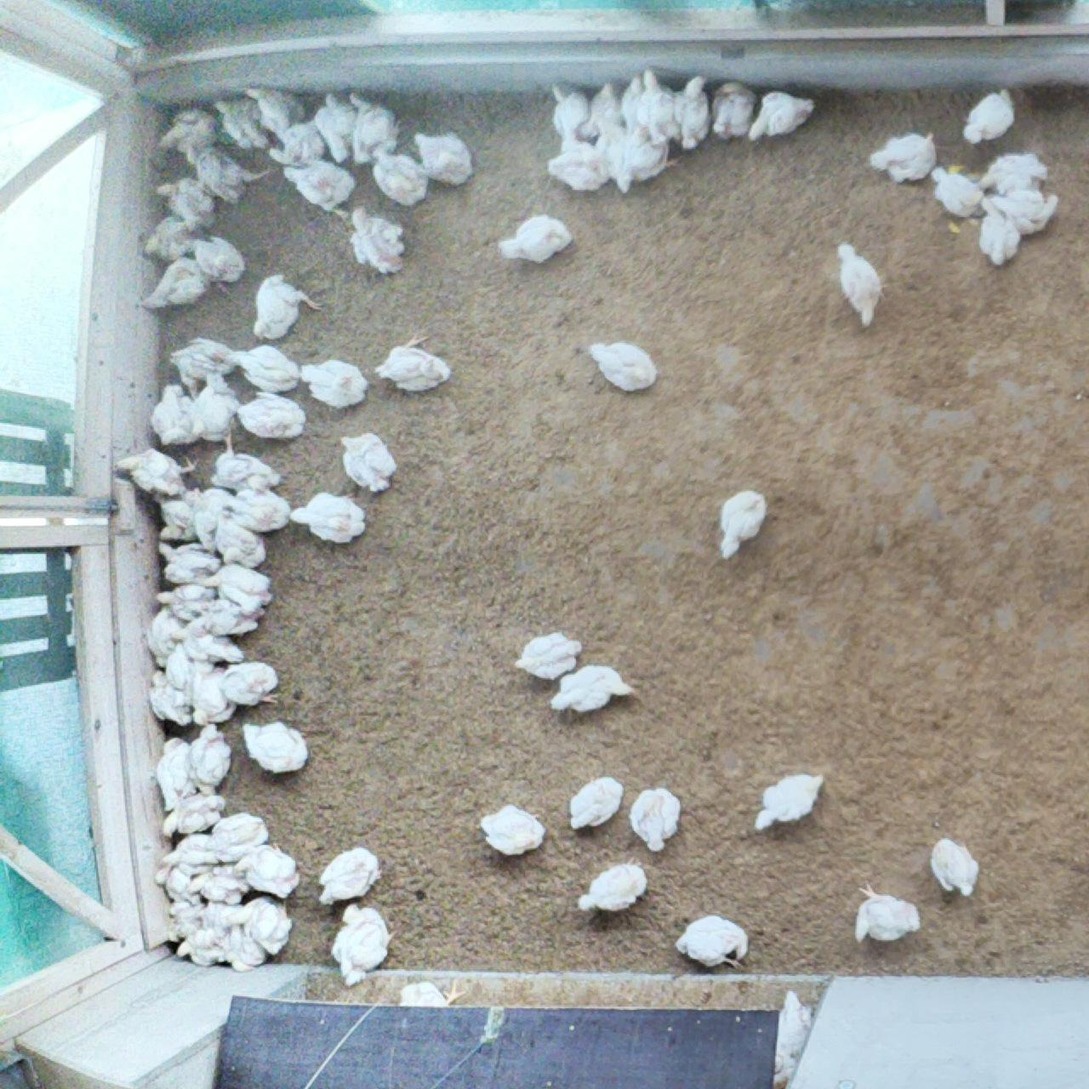chicken: (582, 331, 662, 405), (371, 330, 452, 401), (328, 902, 394, 989), (247, 272, 322, 348), (707, 485, 778, 564), (830, 238, 887, 336), (345, 202, 412, 283), (668, 909, 758, 969), (845, 881, 924, 949), (239, 83, 323, 145), (741, 81, 818, 148), (751, 769, 830, 834), (290, 488, 367, 554), (344, 88, 400, 177), (233, 717, 316, 777), (365, 141, 434, 213), (494, 213, 573, 275), (472, 801, 552, 859), (604, 130, 670, 200), (187, 153, 271, 208), (573, 862, 652, 920), (314, 839, 379, 909), (151, 105, 225, 166), (986, 187, 1068, 242), (864, 126, 941, 184), (977, 149, 1054, 207), (551, 663, 632, 718), (171, 617, 265, 664), (152, 537, 242, 586), (310, 92, 364, 173), (209, 94, 273, 162), (334, 429, 396, 499), (116, 441, 188, 501), (411, 127, 477, 192), (279, 157, 354, 214), (628, 67, 676, 151), (196, 566, 275, 617), (151, 177, 224, 232), (537, 141, 611, 194), (957, 83, 1017, 148), (628, 785, 681, 858), (928, 832, 984, 901), (507, 630, 584, 680), (562, 774, 621, 835), (928, 162, 985, 225), (973, 203, 1024, 273), (670, 73, 711, 156), (144, 259, 209, 311), (229, 903, 293, 955), (149, 383, 201, 446), (184, 668, 242, 724), (152, 867, 220, 914), (151, 732, 196, 803), (140, 603, 194, 662), (214, 516, 277, 566), (190, 232, 249, 285), (149, 666, 197, 731), (544, 81, 590, 148), (237, 391, 302, 438), (273, 118, 328, 173), (156, 581, 225, 624), (233, 345, 297, 391), (167, 337, 228, 384), (167, 928, 242, 966), (191, 724, 235, 788), (241, 851, 299, 898), (195, 487, 247, 539), (209, 449, 276, 489), (233, 480, 283, 533), (713, 77, 753, 141), (590, 79, 624, 149), (195, 395, 239, 449), (154, 838, 228, 870), (217, 664, 275, 704), (139, 216, 192, 259), (157, 795, 220, 830), (301, 362, 358, 400), (196, 862, 245, 902), (618, 68, 645, 137), (159, 493, 197, 532)
